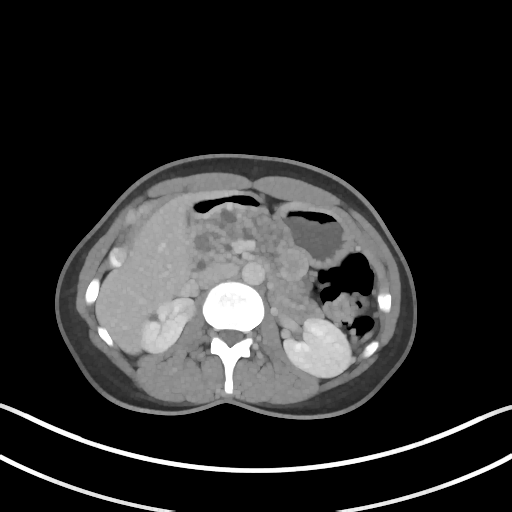Lesion: (147, 312, 160, 323)
